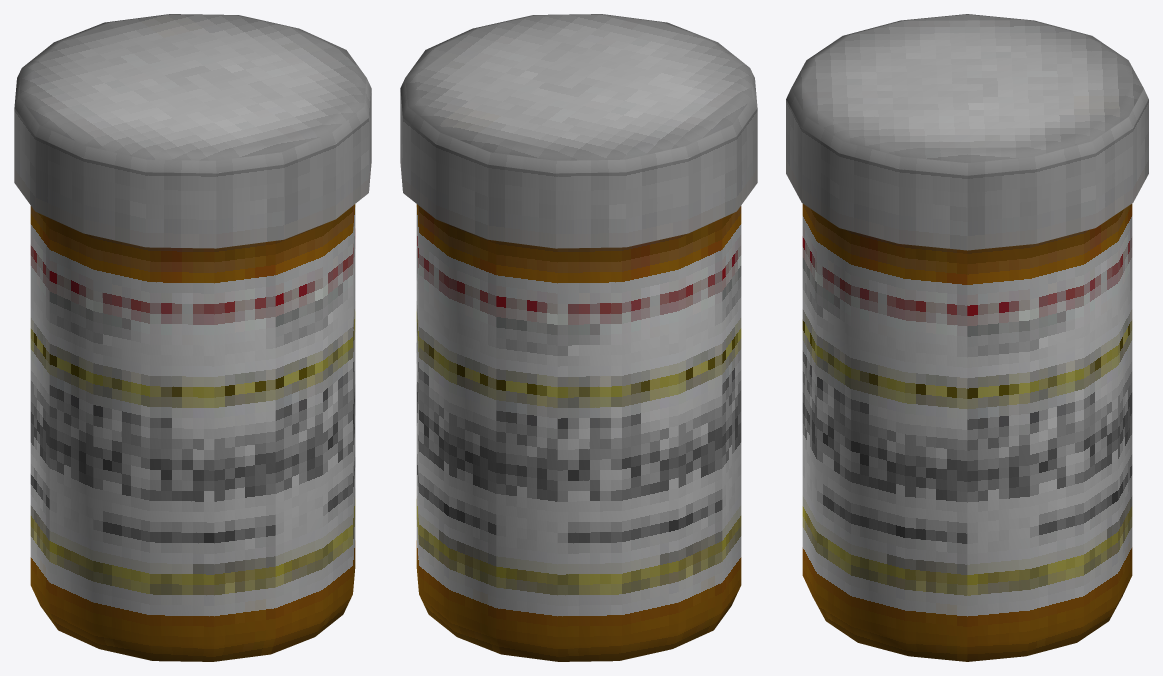
File: pills_bottle_1.glb
3 renders of one model, left to right at view 1: azimuth 30°, elevation 25°; view 2: azimuth 150°, elevation 25°; view 3: azimuth 270°, elevation 25°, orthographic.
Parts seen in each view (by area): view 1: pills_bottle_1; view 2: pills_bottle_1; view 3: pills_bottle_1.
Part boxes in pixels (left/top/right/bottom): pills_bottle_1: left=14, top=14, right=371, bottom=661; pills_bottle_1: left=400, top=14, right=757, bottom=661; pills_bottle_1: left=786, top=14, right=1148, bottom=661.
Bounding box in the file's own units: 0.0832 × 0.1318 × 0.0832.
1 material, 1 textured.
